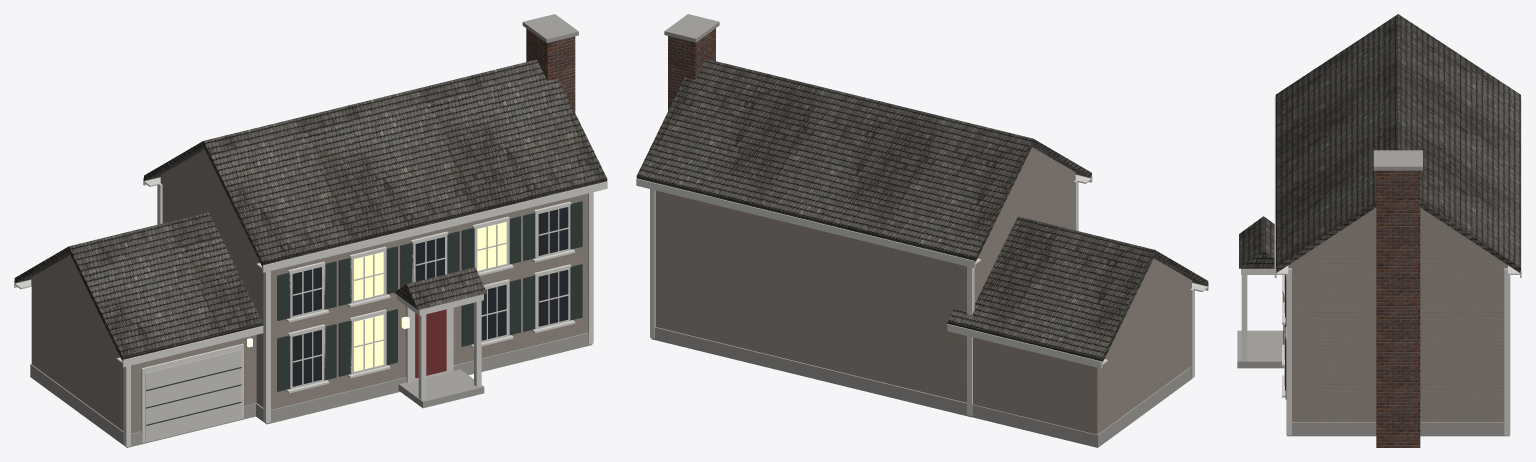
Rendered from street-house.glb.
The picture shows the model from 3 angles, left to right: view 1: azimuth 30°, elevation 25°; view 2: azimuth 150°, elevation 25°; view 3: azimuth 270°, elevation 25°; orthographic projection. The views are drawn at different scales.
Visible parts, largest first — view 1: House walls; view 2: House walls; view 3: House walls.
Boxes of the visible parts, bbox=[...] form: House walls: bbox=[14, 14, 607, 447]; House walls: bbox=[636, 14, 1208, 447]; House walls: bbox=[1237, 14, 1521, 447].
Bounding box in the file's own units: 16.03 × 8.57 × 7.77.
11 materials, 3 textured.
